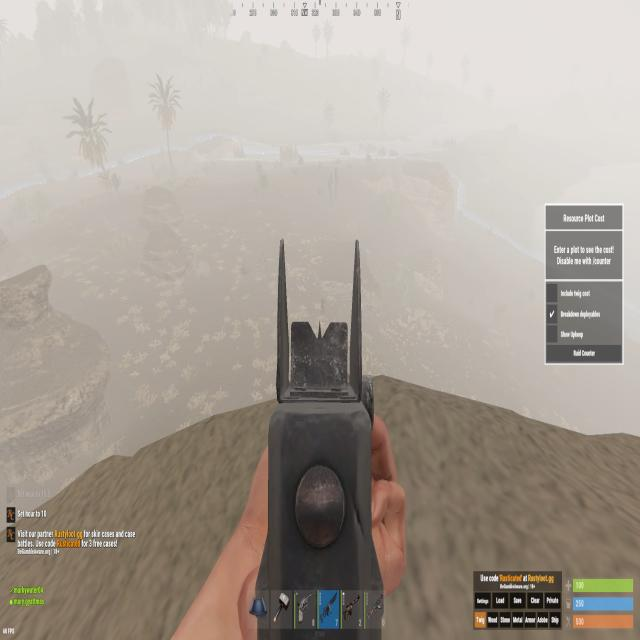Player: (321, 298, 325, 315)
